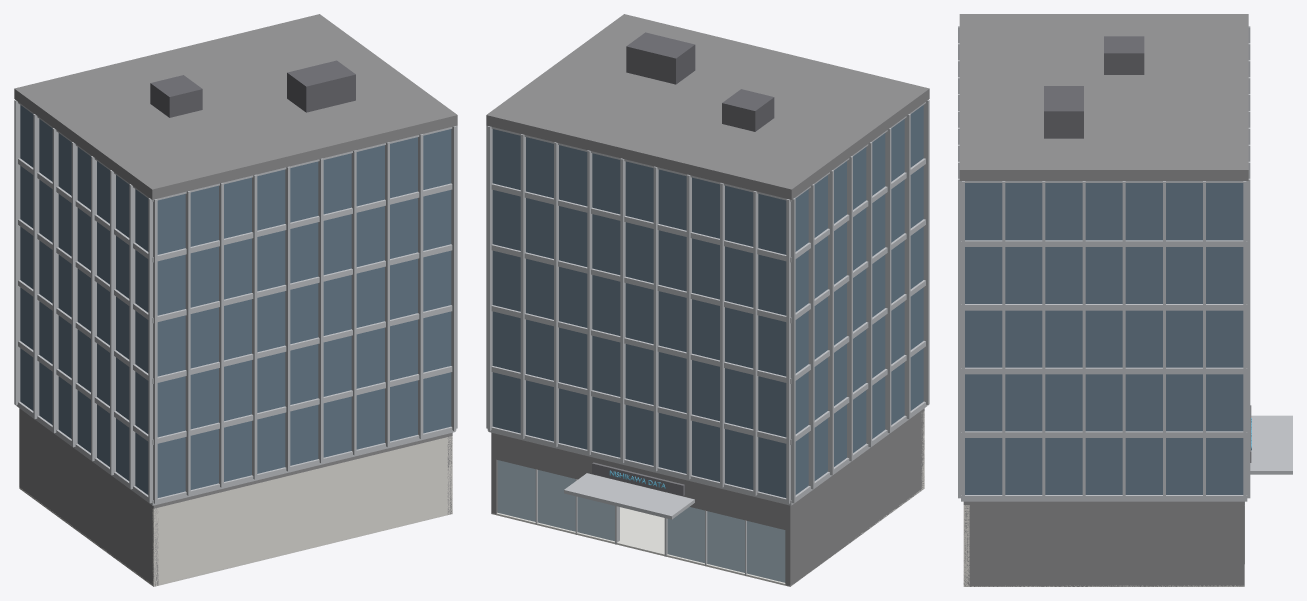
Rendered from Building_Office.fbx.
3 views of the same model, side by side, from view 1: azimuth 30°, elevation 25°; view 2: azimuth 150°, elevation 25°; view 3: azimuth 270°, elevation 25° (orthographic). The views are drawn at different scales.
Visible parts, largest first — view 1: Building_Office_Mesh; view 2: Building_Office_Mesh; view 3: Building_Office_Mesh.
Part boxes in pixels (x1,y1,x2,y2): Building_Office_Mesh: [14, 14, 457, 586]; Building_Office_Mesh: [486, 14, 929, 586]; Building_Office_Mesh: [958, 14, 1292, 586].
Bounding box in the file's own units: 18.55 × 16.68 × 24.5.
